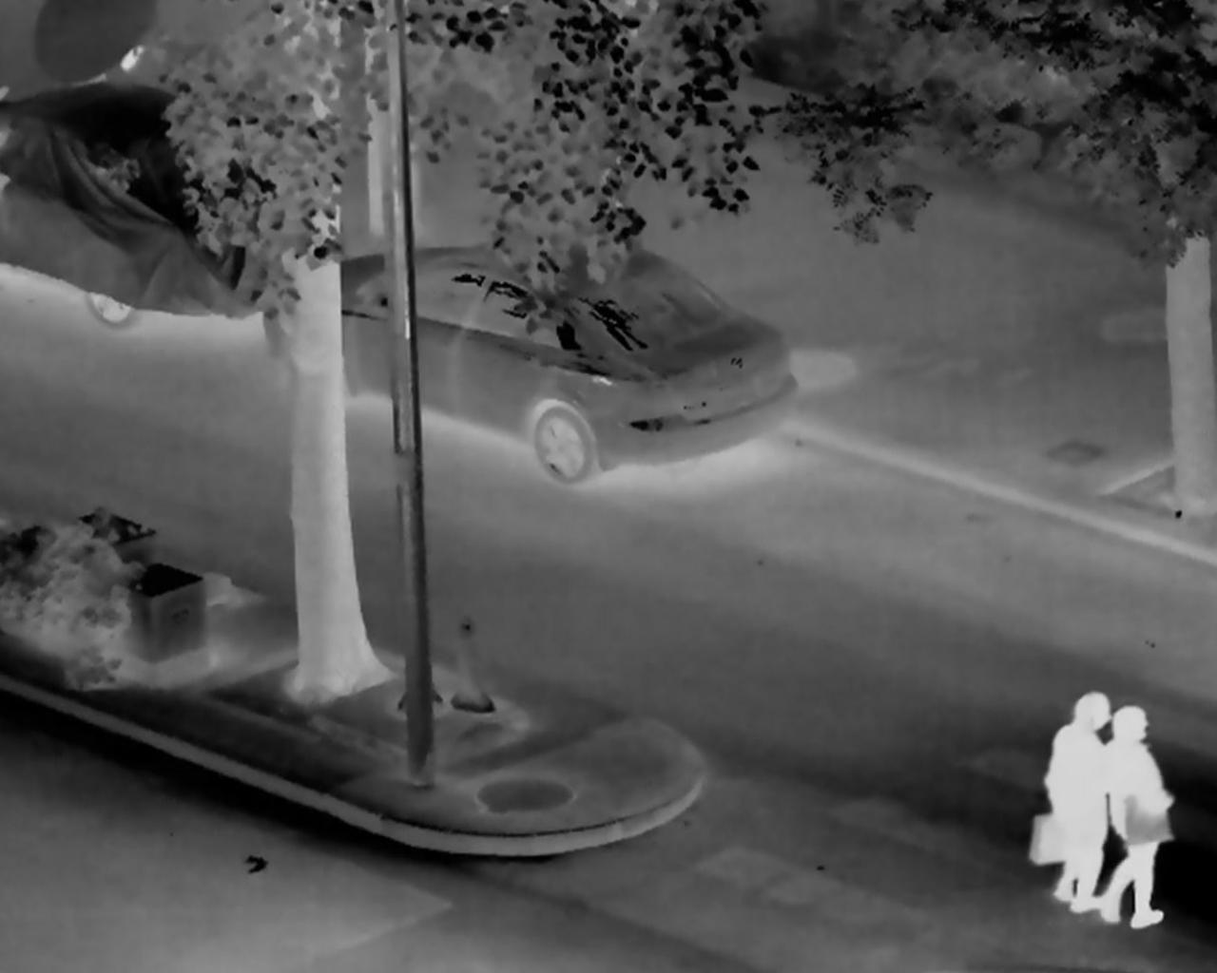person: (1030, 690, 1110, 920), (1099, 708, 1173, 930)
